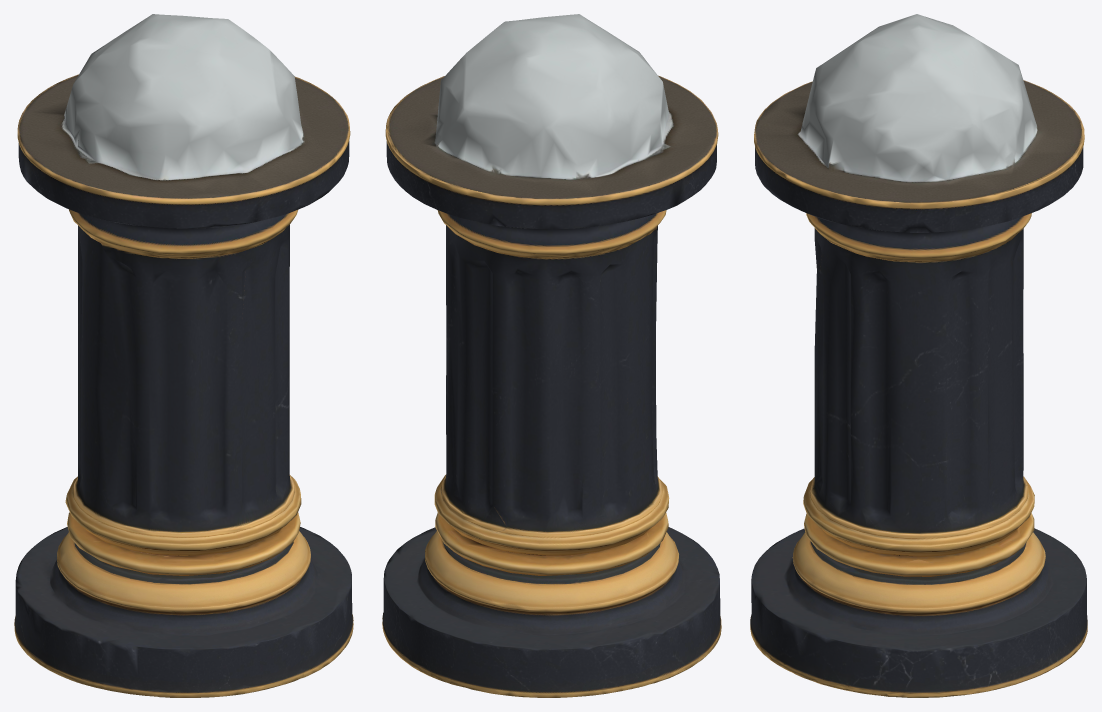
The model's file is column.glb.
3 renders of one model, left to right at view 1: azimuth 30°, elevation 25°; view 2: azimuth 150°, elevation 25°; view 3: azimuth 270°, elevation 25°, orthographic.
Visible parts, largest first — view 1: tripo_node_2908d1eb-e0b4-4703-9efb-add0dad3aa26; view 2: tripo_node_2908d1eb-e0b4-4703-9efb-add0dad3aa26; view 3: tripo_node_2908d1eb-e0b4-4703-9efb-add0dad3aa26.
Boxes of the visible parts, x1,y1,x2,y2 form: tripo_node_2908d1eb-e0b4-4703-9efb-add0dad3aa26: (14,14,353,697); tripo_node_2908d1eb-e0b4-4703-9efb-add0dad3aa26: (382,14,721,697); tripo_node_2908d1eb-e0b4-4703-9efb-add0dad3aa26: (750,14,1087,697).
Bounding box in the file's own units: 0.1535 × 0.3 × 0.1531.
Materials: 1 (1 with a texture image).
